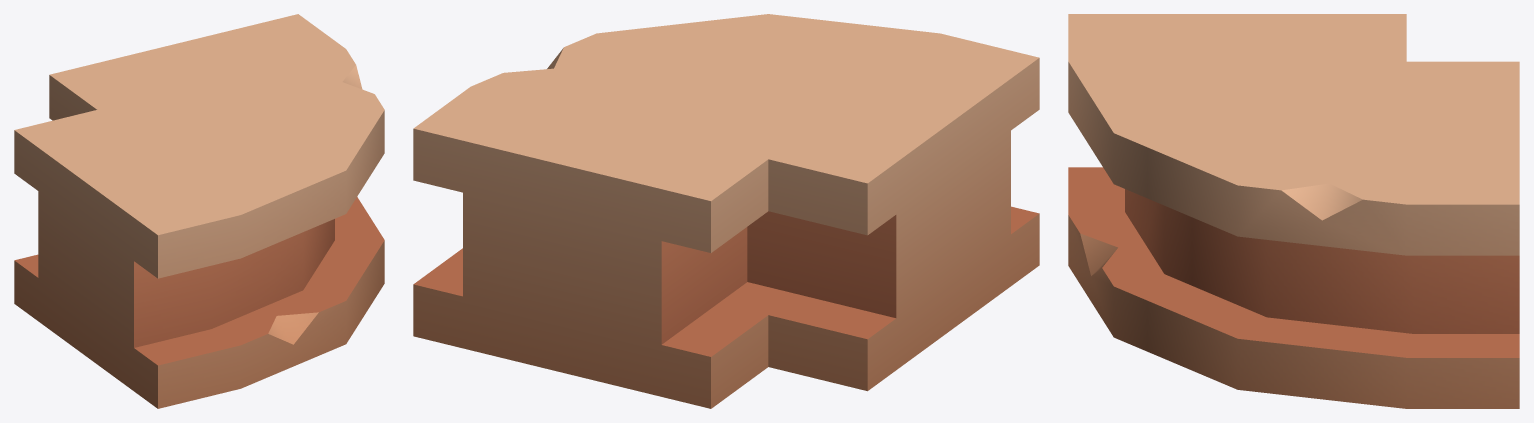
File: border-corner.glb
The picture shows the model from 3 angles, left to right: view 1: azimuth 30°, elevation 25°; view 2: azimuth 150°, elevation 25°; view 3: azimuth 270°, elevation 25°; orthographic projection. The views are drawn at different scales.
Parts seen in each view (by area): view 1: border-corner; view 2: border-corner; view 3: border-corner.
Boxes of the visible parts, x1,y1,x2,y2 form: border-corner: [14, 14, 384, 408]; border-corner: [413, 14, 1039, 408]; border-corner: [1068, 14, 1519, 408].
Size of the model in its own units: 0.8 by 0.4 by 0.8.
1 material, 1 textured.
